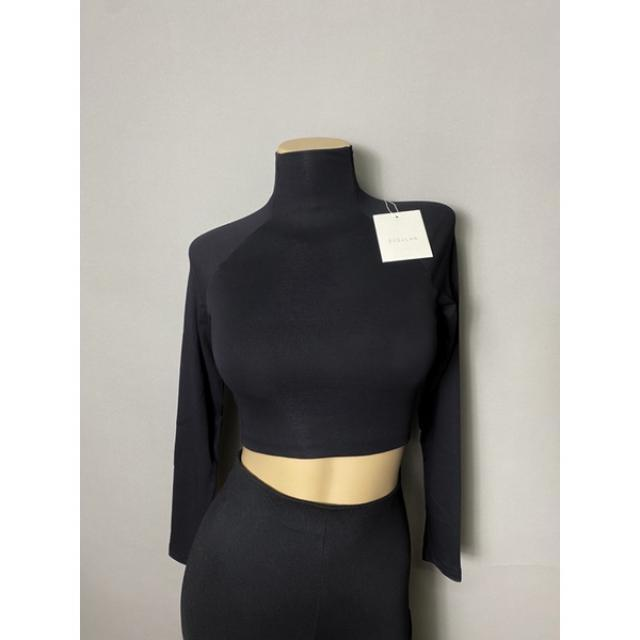Shirt: (163, 146, 474, 583)
